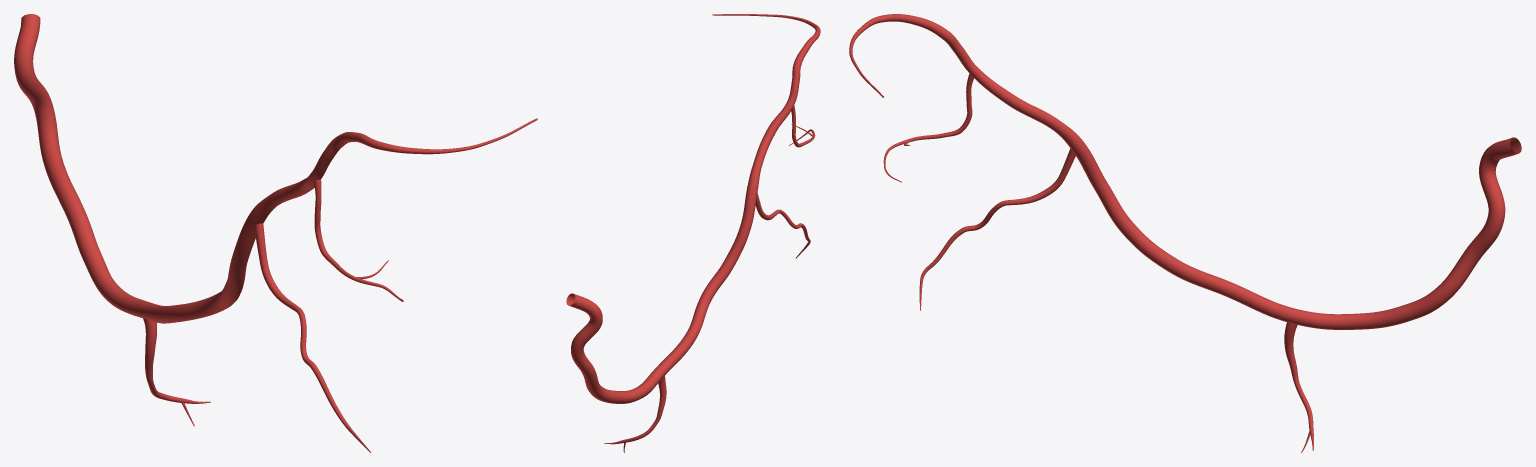
3 renders of one model, left to right at view 1: azimuth 30°, elevation 25°; view 2: azimuth 150°, elevation 25°; view 3: azimuth 270°, elevation 25°, orthographic. The views are drawn at different scales.
Parts seen in each view (by area): view 1: 左侧胼缘动脉; view 2: 左侧胼缘动脉; view 3: 左侧胼缘动脉.
Boxes of the visible parts, x1,y1,x2,y2 form: 左侧胼缘动脉: (14,14,537,452); 左侧胼缘动脉: (566,14,820,452); 左侧胼缘动脉: (849,14,1521,452).
Size of the model in its own units: 0.0315 by 0.0781 by 0.1148.
